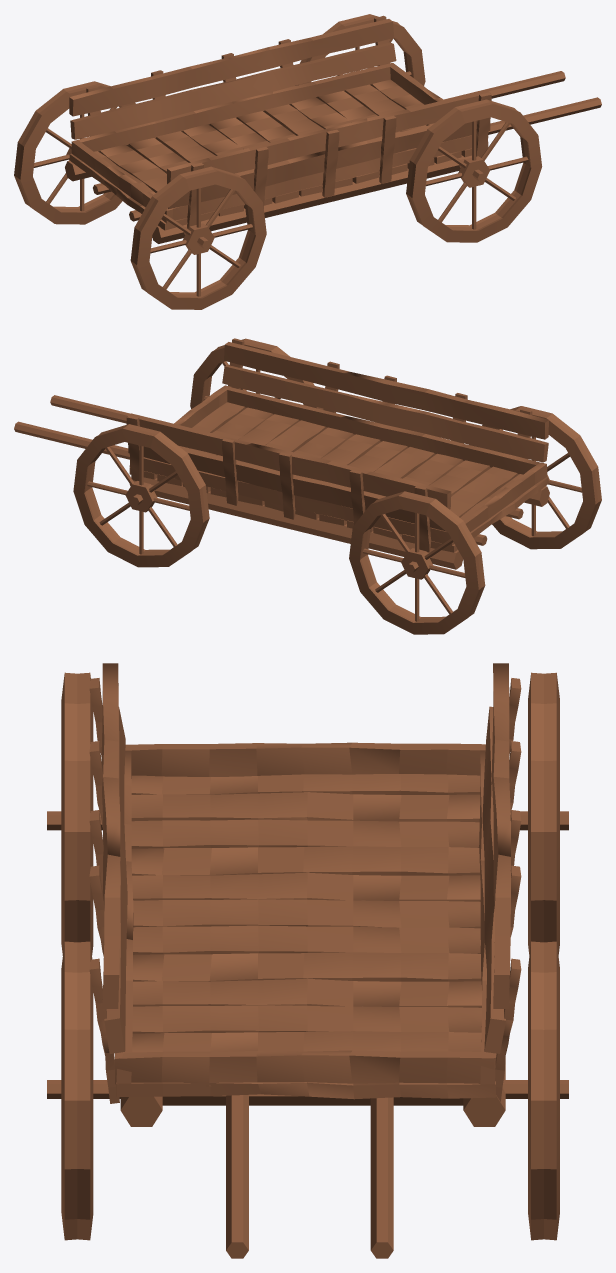
Rendered from cart.glb.
3 views of the same model, one above another, from view 1: azimuth 30°, elevation 25°; view 2: azimuth 150°, elevation 25°; view 3: azimuth 270°, elevation 25° (orthographic). The views are drawn at different scales.
Parts seen in each view (by area): view 1: Cart_Wood_Window_Texture_0.001; view 2: Cart_Wood_Window_Texture_0.001; view 3: Cart_Wood_Window_Texture_0.001.
Boxes of the visible parts, x1,y1,x2,y2 form: Cart_Wood_Window_Texture_0.001: [14, 14, 601, 309]; Cart_Wood_Window_Texture_0.001: [14, 338, 601, 634]; Cart_Wood_Window_Texture_0.001: [47, 663, 568, 1258].
Bounding box in the file's own units: 4.96 × 1.31 × 2.22.
